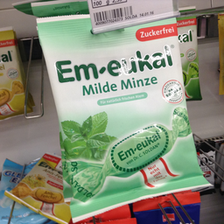candy: (37, 17, 202, 212)
